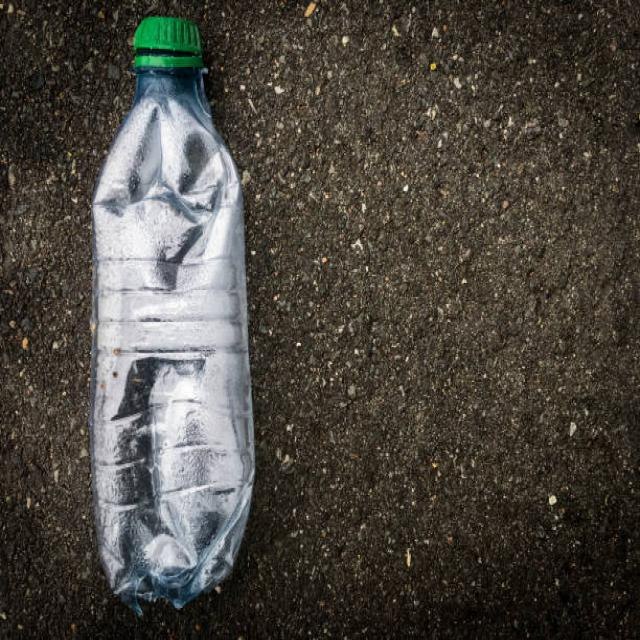plastic: (85, 14, 258, 610)
